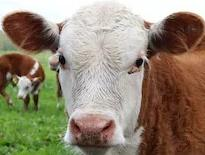muzzles: (61, 105, 126, 154)
